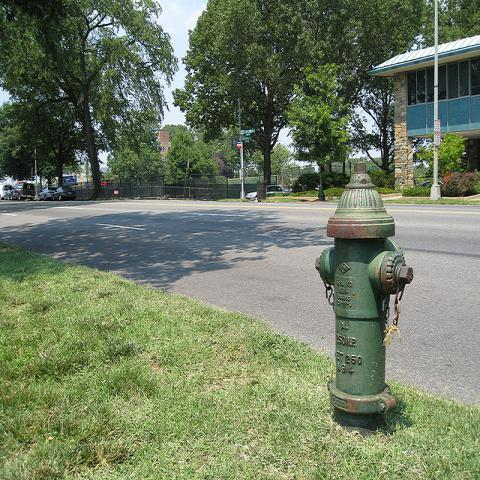car: (246, 184, 289, 200), (52, 186, 76, 200), (38, 189, 55, 200), (1, 185, 13, 200)
truck: (8, 181, 36, 201), (63, 174, 78, 186)
